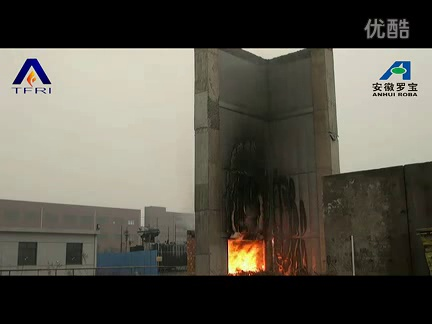fire: (229, 241, 267, 274)
